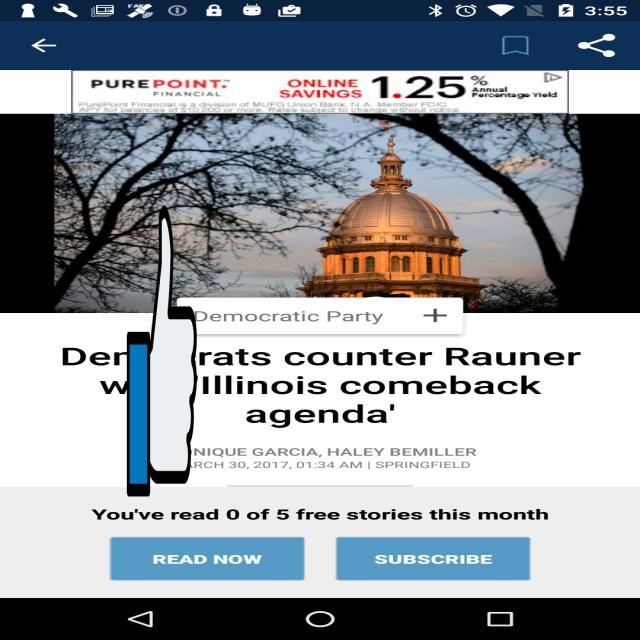privacy zuckering: (127, 199, 197, 503)
